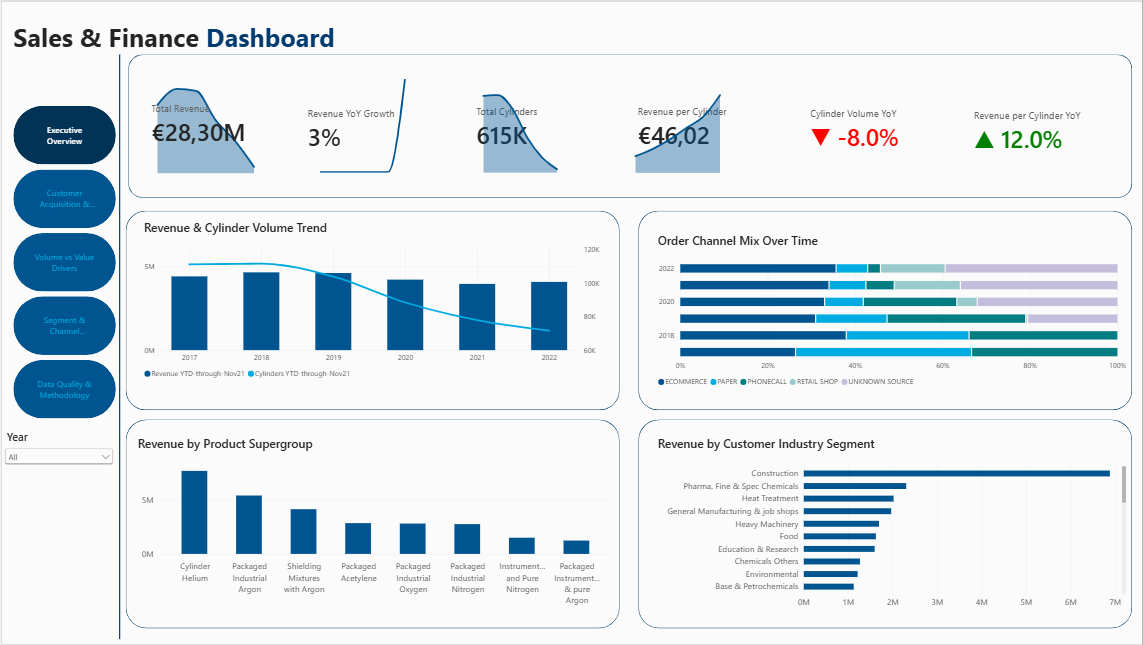

The page's visual inventory and layout, read from the dashboard file:
{"tool":"powerbi","page":{"name":"Executive Overview","canvas":[1920,1080],"ordinal":0},"visuals":[{"type":"areaChart","fields":{"Category":["Year Selector.Year"],"Y":["Order.Total Revenue"]},"box":[235.1,111.3,214.7,192.8],"z":0},{"type":"shape","box":[213.2,87.8,1691.2,241.4],"z":1000},{"type":"shape","box":[208,704,832,352],"z":2000},{"type":"shape","box":[1072,704,832,352],"z":3000},{"type":"shape","box":[1072,352,832,336],"z":4000},{"type":"shape","box":[208,352,832,336],"z":5000},{"type":"slicer","fields":{"Values":["Date.Year"]},"box":[0,720.8,192,64],"z":6000},{"type":"lineStackedColumnComboChart","title":"Revenue & Cylinder Volume Trend","fields":{"Category":["Date.Year"],"Y":["Order.Revenue YTD-through-Nov21"],"Y2":["Order.Cylinders YTD-through-Nov21"]},"box":[224,352,800,304],"z":7000},{"type":"hundredPercentStackedBarChart","title":"Order Channel Mix Over Time","fields":{"Category":["Year Selector.Year"],"Series":["Order.ORDER_CHANNEL"],"Y":["Order.Total Revenue"]},"box":[1088.2,372.1,821.4,296.5],"z":8000},{"type":"barChart","title":"Revenue by Customer Industry Segment","fields":{"Category":["Order.CUSTOMER_INDUSTRY_SEGMENT"],"Y":["Order.Total Revenue"]},"box":[1088.2,716.1,821.4,326.2],"z":9000},{"type":"clusteredColumnChart","title":"Revenue by Product Supergroup","fields":{"Category":["Order.PRODUCT_SUPERGROUP"],"Y":["Order.Total Revenue"]},"box":[213.3,716.2,832,320],"z":10000},{"type":"textbox","box":[19,29.2,557.3,80.2],"z":11000},{"type":"shape","box":[192,88,13.1,984.8],"z":12000},{"type":"cardVisual","fields":{"Data":["Order.Revenue YTD-through-Nov21"]},"box":[235.1,108.1,260,200],"z":13000},{"type":"cardVisual","fields":{"Data":["Order.Cylinders YTD-through-Nov21"]},"box":[784,112,260,200],"z":14000},{"type":"cardVisual","fields":{"Data":["Order.Revenue YoY % Correct"]},"box":[500,116,260,200],"z":15000},{"type":"cardVisual","fields":{"Data":["Order.Revenue per Cylinder YTD"]},"box":[1056,112,260,200],"z":16000},{"type":"cardVisual","fields":{"Data":["Order.Volume YoY Display"]},"box":[1344.7,120.1,259.5,191.3],"z":17000},{"type":"cardVisual","fields":{"Data":["Order.Revenue YoY Display"]},"box":[1620.5,120.1,259.5,198.7],"z":18000},{"type":"pageNavigator","box":[18.8,174,174,529.8],"z":19000},{"type":"hundredPercentStackedAreaChart","fields":{"Category":["Year Selector.Year"],"Y":["Order.Revenue YoY % Correct"]},"box":[481.2,108.1,222.6,195.9],"z":20000},{"type":"stackedAreaChart","fields":{"Category":["Year Selector.Year"],"Y":["Order.Cylinders YTD-through-Nov21"]},"box":[760.2,108.1,200.6,195.9],"z":21000},{"type":"stackedAreaChart","fields":{"Category":["Year Selector.Year"],"Y":["Order.Revenue per Cylinder YTD"]},"box":[1012.5,116,222.6,188.1],"z":22000}]}

Visuals, with their boxes in screenshot pixels (x1, y1, x2, y2), scaled from the page's 1920x1080 canvas onto the 1143x645 screenshot:
areaChart - Year Selector.Year x Order.Total Revenue: 140,66,268,182
shape: 127,52,1134,197
shape: 124,420,619,631
shape: 638,420,1133,631
shape: 638,210,1133,411
shape: 124,210,619,411
slicer - Date.Year: 0,430,114,469
"Revenue & Cylinder Volume Trend" lineStackedColumnComboChart: 133,210,610,392
"Order Channel Mix Over Time" hundredPercentStackedBarChart: 648,222,1137,399
"Revenue by Customer Industry Segment" barChart: 648,428,1137,622
"Revenue by Product Supergroup" clusteredColumnChart: 127,428,622,619
textbox: 11,17,343,65
shape: 114,53,122,641
cardVisual - Order.Revenue YTD-through-Nov21: 140,65,295,184
cardVisual - Order.Cylinders YTD-through-Nov21: 467,67,622,186
cardVisual - Order.Revenue YoY % Correct: 298,69,452,189
cardVisual - Order.Revenue per Cylinder YTD: 629,67,783,186
cardVisual - Order.Volume YoY Display: 801,72,955,186
cardVisual - Order.Revenue YoY Display: 965,72,1119,190
pageNavigator: 11,104,115,420
hundredPercentStackedAreaChart - Year Selector.Year x Order.Revenue YoY % Correct: 286,65,419,182
stackedAreaChart - Year Selector.Year x Order.Cylinders YTD-through-Nov21: 453,65,572,182
stackedAreaChart - Year Selector.Year x Order.Revenue per Cylinder YTD: 603,69,735,182
